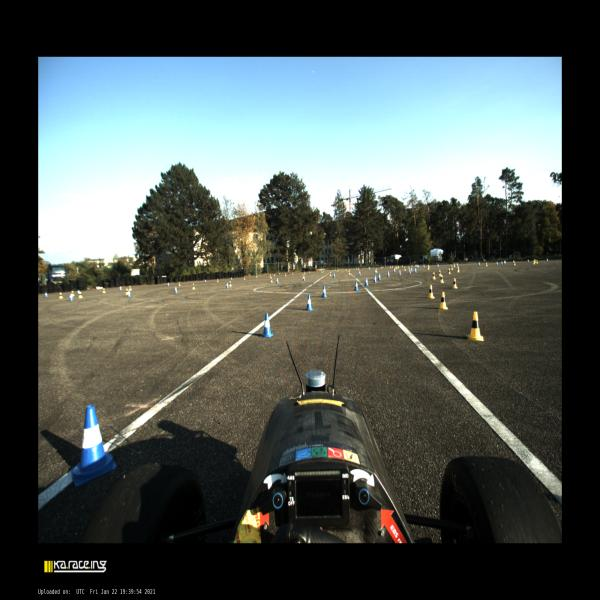blue_cone: (71, 405, 117, 486), (260, 313, 274, 337), (305, 294, 314, 310), (322, 286, 328, 298), (354, 281, 359, 290), (364, 277, 369, 286), (69, 293, 74, 301), (373, 275, 377, 283), (174, 287, 178, 293), (378, 273, 381, 280), (128, 290, 131, 297), (226, 282, 229, 289), (44, 292, 48, 297), (387, 271, 390, 277), (77, 289, 80, 294), (374, 269, 377, 274), (119, 286, 122, 290), (399, 269, 401, 275), (393, 268, 396, 272), (276, 278, 278, 283), (303, 276, 305, 281), (333, 273, 335, 278), (409, 269, 411, 274), (411, 268, 413, 272), (414, 268, 416, 272), (416, 264, 418, 268), (417, 264, 419, 268), (423, 264, 425, 268), (496, 261, 498, 265), (504, 260, 506, 264), (414, 264, 416, 267), (437, 264, 439, 267), (456, 263, 458, 266), (478, 262, 480, 265), (546, 258, 548, 261), (501, 261, 503, 264), (309, 270, 310, 274), (359, 271, 360, 275), (382, 266, 384, 268), (527, 260, 529, 262), (168, 283, 169, 286), (231, 277, 232, 280), (256, 275, 257, 278), (274, 274, 275, 277), (292, 272, 293, 275), (335, 269, 336, 272), (402, 265, 403, 268), (513, 260, 514, 263), (205, 280, 206, 282), (323, 270, 324, 272), (356, 268, 357, 270), (392, 266, 393, 268), (346, 268, 347, 270), (369, 267, 370, 269), (412, 264, 412, 267)
yellow_cone: (468, 312, 484, 341), (438, 292, 448, 310), (428, 285, 435, 299), (452, 278, 458, 288), (440, 274, 444, 283), (78, 291, 83, 298), (432, 272, 436, 279), (59, 292, 63, 299), (71, 291, 75, 296), (102, 288, 106, 293), (129, 285, 132, 291), (192, 284, 195, 290), (229, 281, 232, 287), (438, 270, 441, 276), (448, 268, 451, 274), (457, 266, 460, 272), (485, 262, 488, 267), (126, 288, 128, 295), (453, 263, 456, 267), (302, 274, 304, 279), (451, 265, 453, 270), (514, 261, 516, 266), (271, 278, 273, 282), (321, 270, 323, 274), (404, 267, 406, 271), (533, 260, 535, 264), (428, 264, 430, 268), (368, 266, 370, 270), (217, 279, 219, 282), (348, 271, 350, 274), (348, 268, 350, 271), (408, 266, 410, 269), (535, 259, 536, 264), (179, 282, 180, 286), (244, 276, 245, 280), (270, 274, 271, 278), (304, 272, 306, 274), (330, 272, 331, 276), (376, 268, 377, 272), (428, 266, 429, 270), (537, 260, 538, 264), (358, 267, 359, 270), (396, 266, 397, 269), (381, 266, 382, 268), (390, 266, 391, 268), (398, 266, 399, 268), (286, 273, 286, 276), (338, 269, 338, 272)
